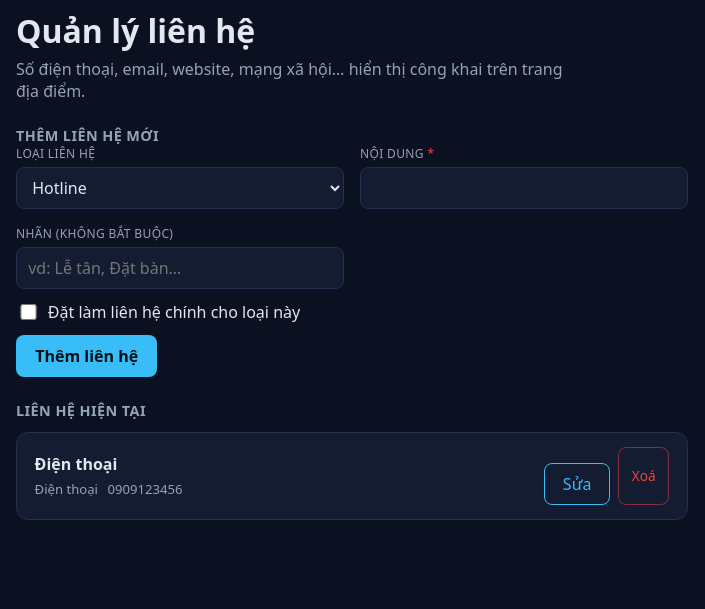
it: ContactsView — xoá liên hệ › xác nhận -> gọi deletePlaceContact rồi tải lại danh sách
expect the text "0909123456" is shown: met, box [108,480,182,498]
Click the button "Xoá" at (644, 476), box [618,447,669,505]
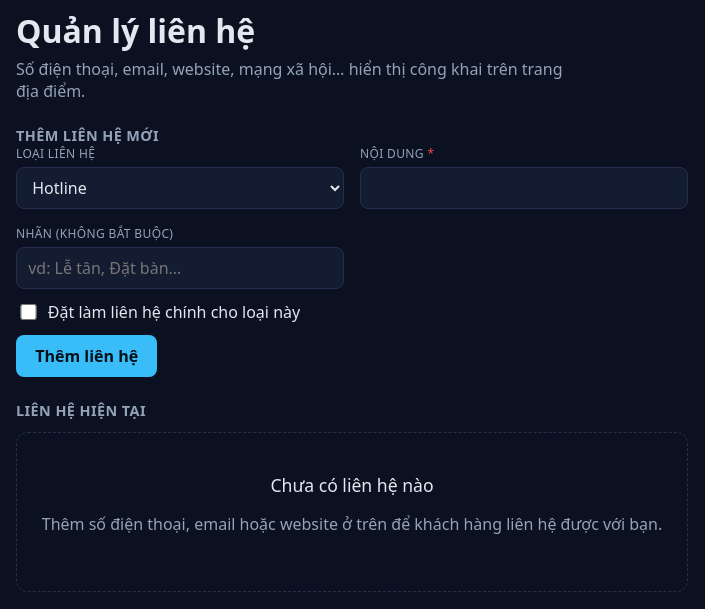
expect the text "Chưa có liên hệ nào" is shown: met, box [270,473,434,497]
